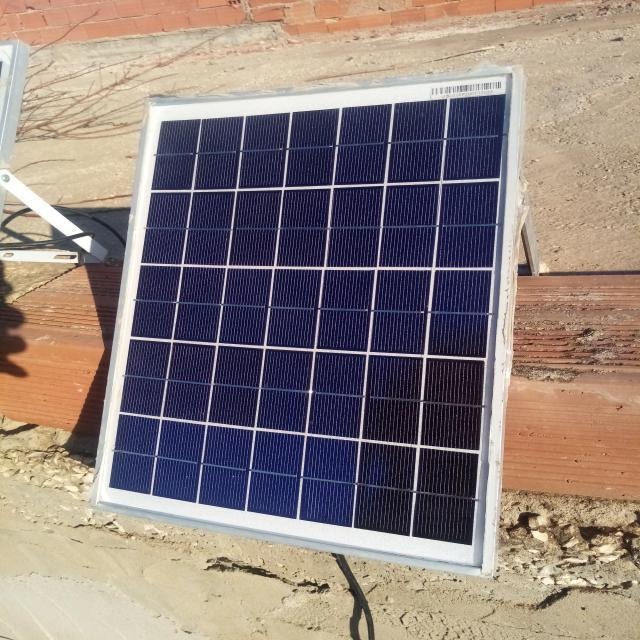Normal Solar Panel: (92, 71, 523, 574)
